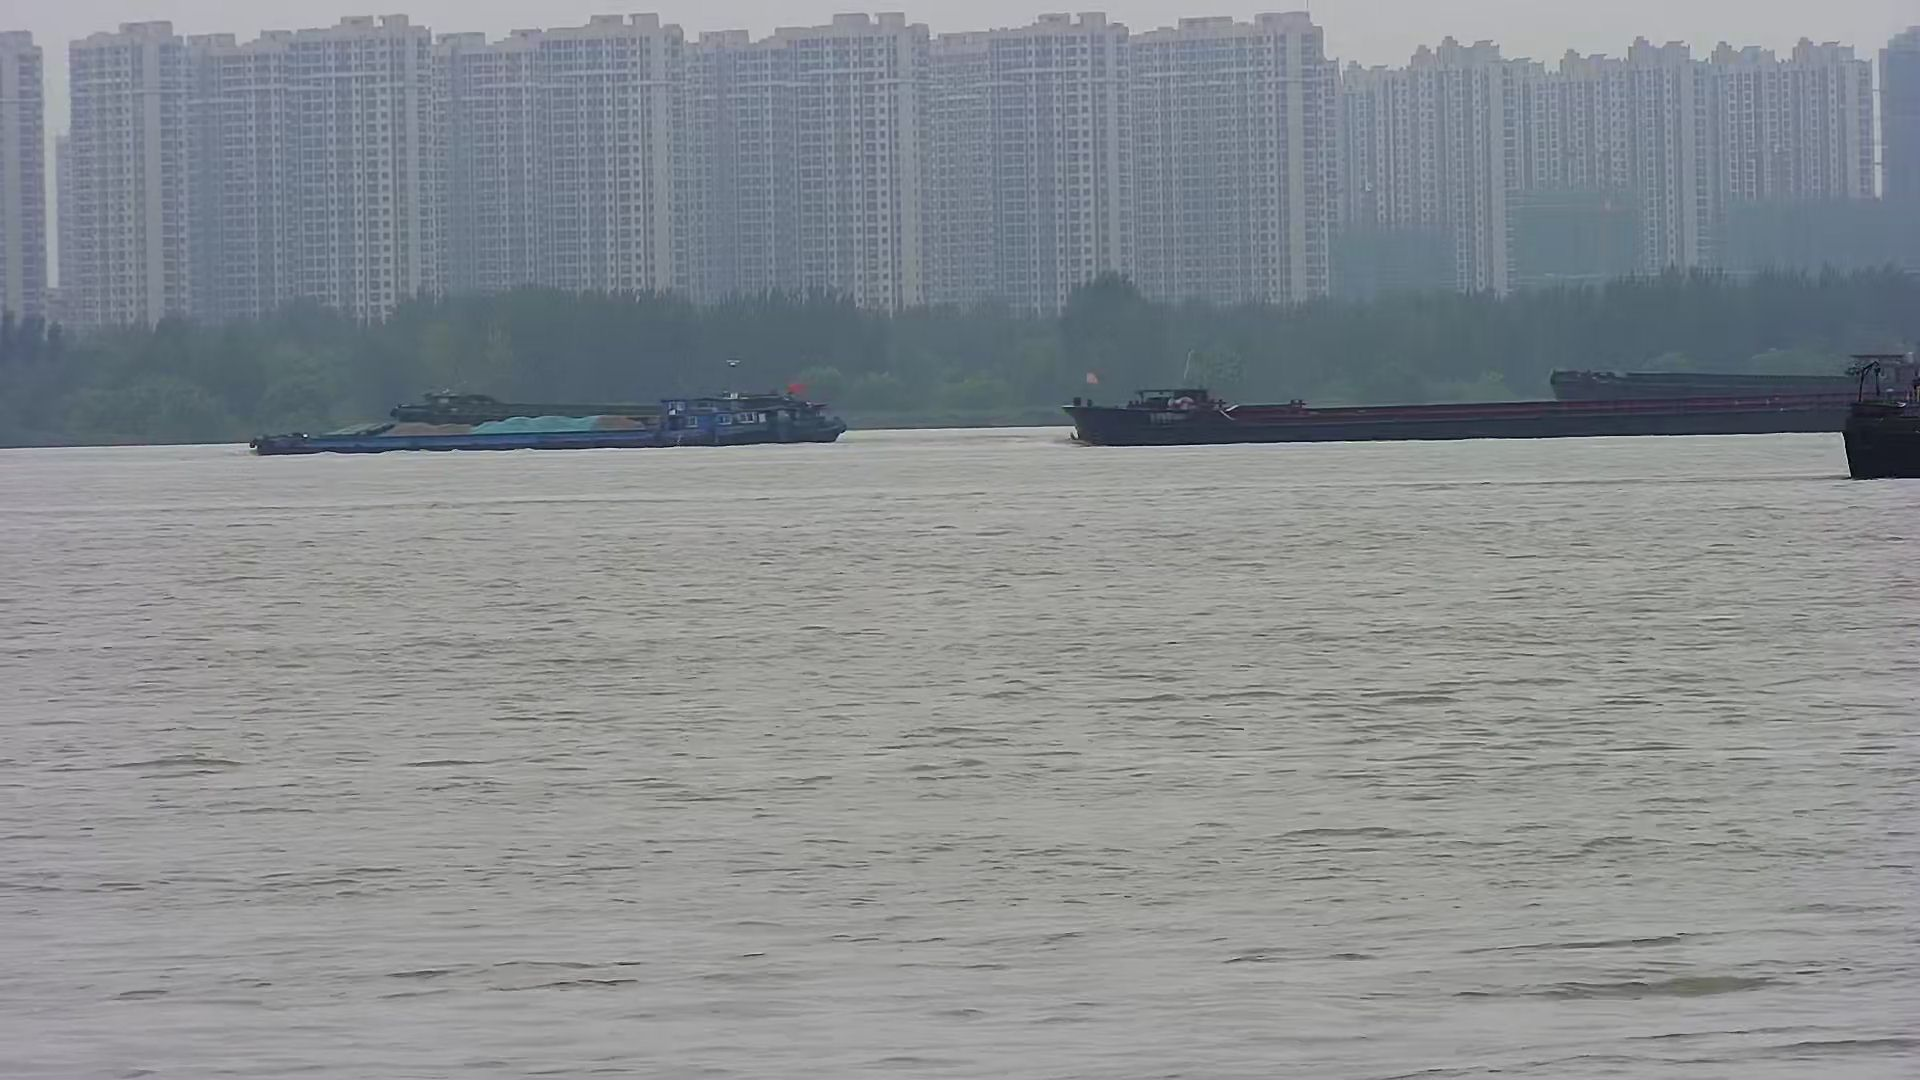ship: (1054, 364, 1920, 452), (245, 382, 851, 456), (1548, 360, 1920, 430), (1837, 360, 1920, 479)
